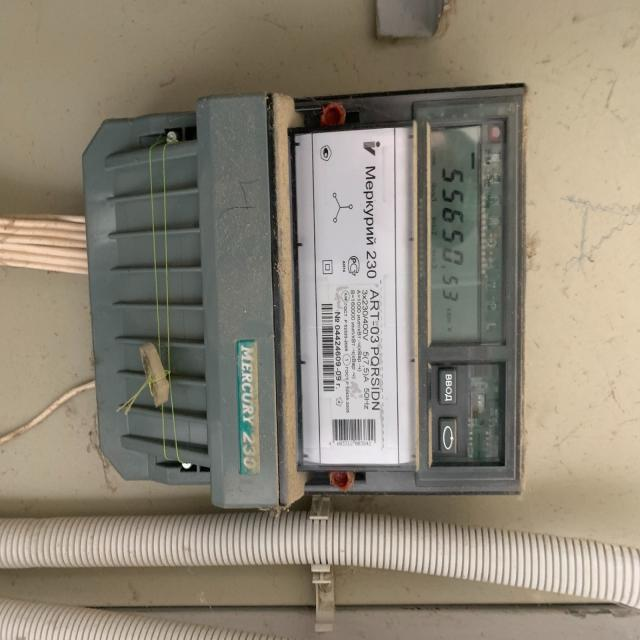Display: (423, 121, 481, 348)
meter_number: (308, 282, 344, 410)
seal_mercury: (60, 83, 543, 524)
